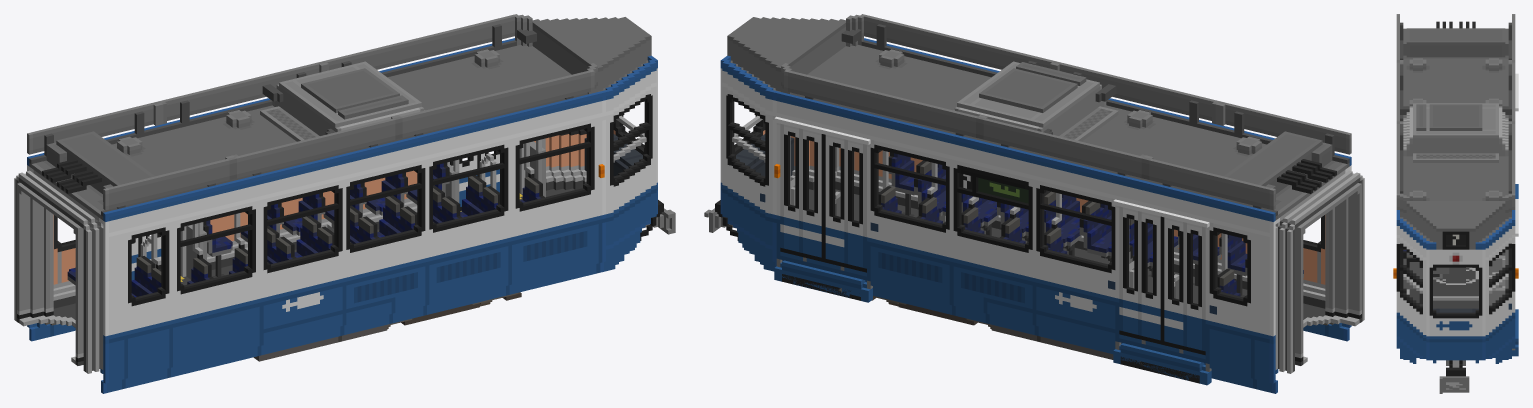
The model's file is tram20003rear.obj.
The picture shows the model from 3 angles, left to right: view 1: azimuth 30°, elevation 25°; view 2: azimuth 150°, elevation 25°; view 3: azimuth 270°, elevation 25°; orthographic projection. The views are drawn at different scales.
Parts seen in each view (by area): view 1: FRAME, INTERIOR, BOGEY_REAR; view 2: FRAME, INTERIOR, DOOR_12_EXTERNAL_CG_dr_TL_-0.625_X, DOOR_3_EXTERNAL_CG_df_TL_0.625_X, DOOR_2_EXTERNAL_CG_df_TL_-0.625_X, WIDGET_11_CG_dr, WIDGET_1_CG_df, DOOR_13_EXTERNAL_CG_dr_TL_0.625_X, DOOR_11_CG_dr, DOOR_1_CG_df, DOOR_4_CG_df, DOOR_14_CG_dr (+5 smaller); view 3: FRAME, INTERIOR, displays_INTERIOR, WIDGET_11_CG_dr.
Boxes of the visible parts, box(x1,y1,x2,y2) form: FRAME: box(14, 14, 675, 393); INTERIOR: box(17, 101, 648, 365); BOGEY_REAR: box(387, 292, 521, 325); FRAME: box(704, 14, 1364, 393); INTERIOR: box(730, 101, 1361, 365); DOOR_12_EXTERNAL_CG_dr_TL_-0.625_X: box(825, 135, 844, 266); DOOR_3_EXTERNAL_CG_df_TL_0.625_X: box(1141, 212, 1160, 344); DOOR_2_EXTERNAL_CG_df_TL_-0.625_X: box(1164, 217, 1183, 349); WIDGET_11_CG_dr: box(780, 251, 866, 297); WIDGET_1_CG_df: box(1119, 334, 1205, 380); DOOR_13_EXTERNAL_CG_dr_TL_0.625_X: box(803, 129, 821, 261); DOOR_11_CG_dr: box(844, 139, 862, 271); DOOR_1_CG_df: box(1183, 222, 1201, 354); DOOR_4_CG_df: box(1123, 207, 1141, 339); DOOR_14_CG_dr: box(784, 124, 802, 256); FRAME: box(1393, 14, 1518, 393); INTERIOR: box(1400, 248, 1511, 313); displays_INTERIOR: box(1446, 234, 1465, 245); WIDGET_11_CG_dr: box(1515, 309, 1518, 344).
Size of the model in its own units: 10.38 by 3.69 by 2.38.
1 material, 1 textured.
